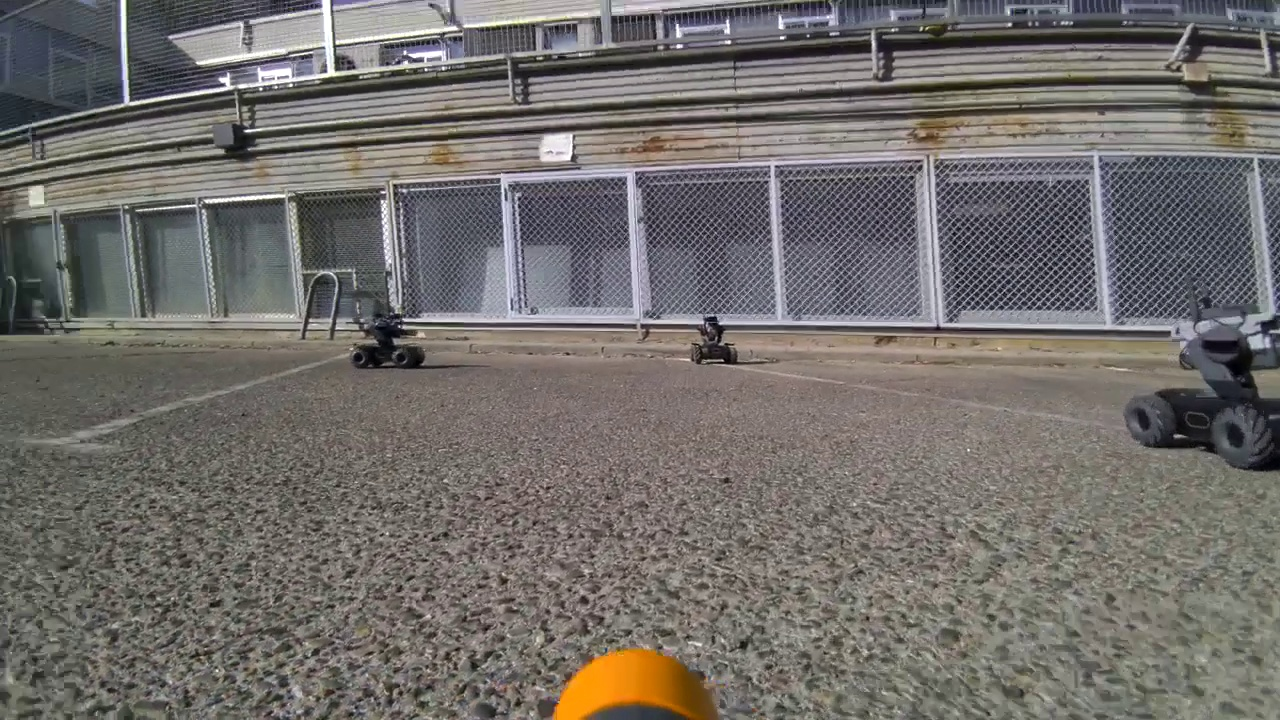robot: (1116, 283, 1280, 462), (341, 295, 429, 375), (689, 310, 744, 368)
